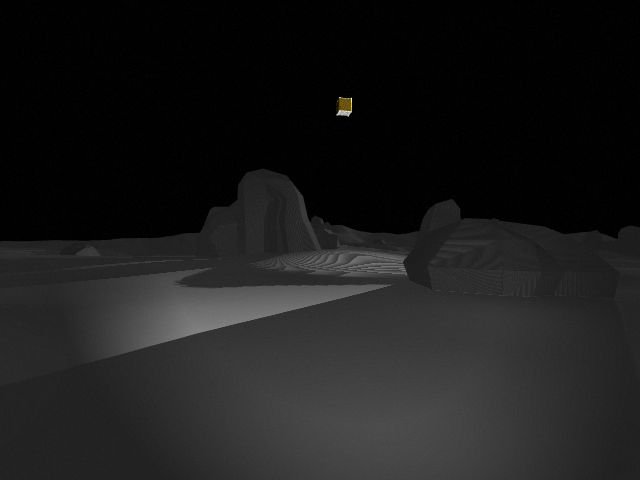cubesat: (332, 93, 356, 119)
